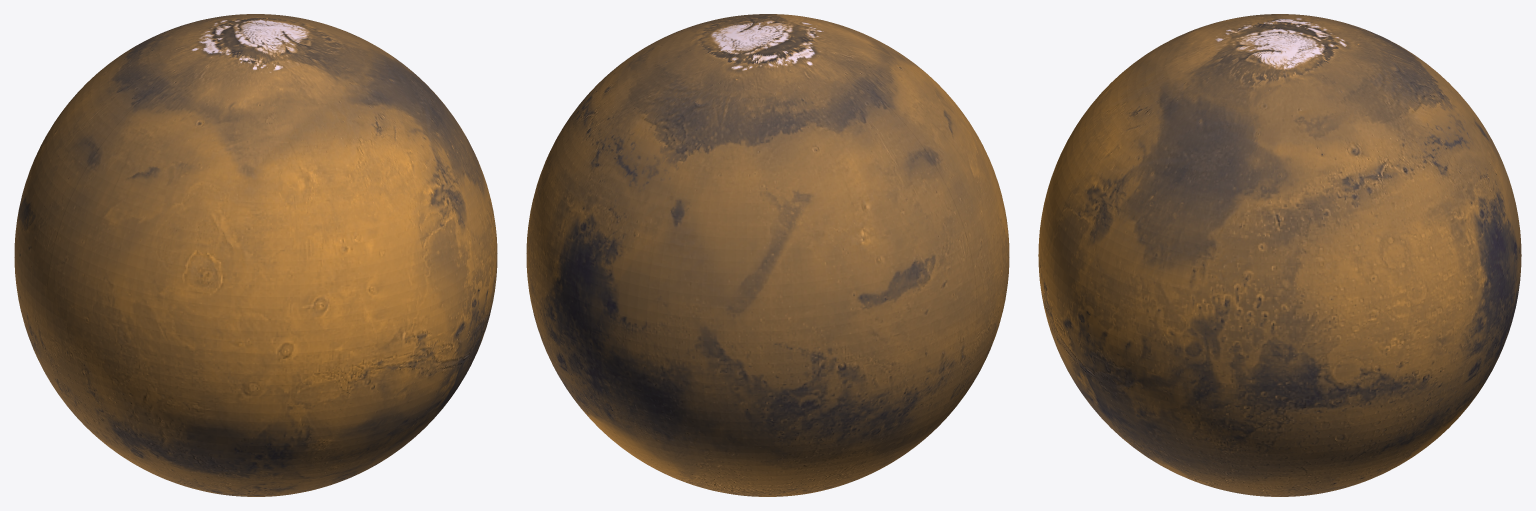
File: Marte.fbx
3 views of the same model, side by side, from view 1: azimuth 30°, elevation 25°; view 2: azimuth 150°, elevation 25°; view 3: azimuth 270°, elevation 25° (orthographic).
Parts seen in each view (by area): view 1: mar0kuu2.001; view 2: mar0kuu2.001; view 3: mar0kuu2.001.
Part boxes in pixels (x1,y1,x2,y2): mar0kuu2.001: (14, 14, 497, 496); mar0kuu2.001: (526, 14, 1009, 496); mar0kuu2.001: (1038, 14, 1521, 496).
Bounding box in the file's own units: 344 × 344 × 344.
